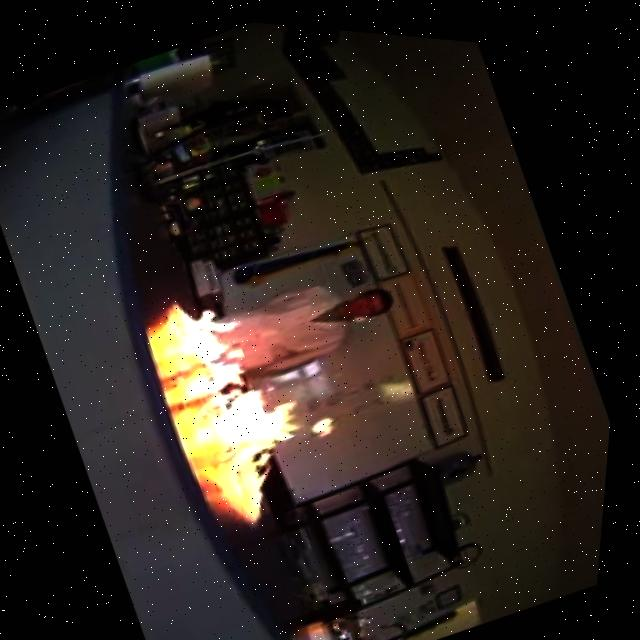Fire: (156, 260, 356, 532)
